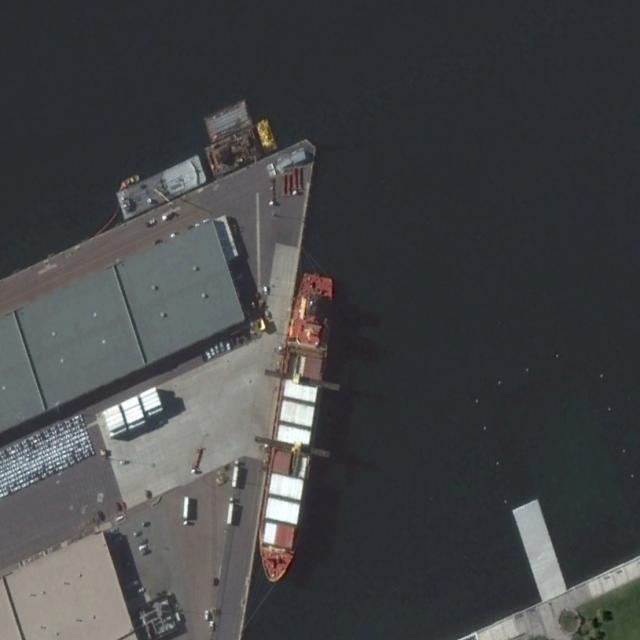Cargo: (254, 269, 340, 588)
